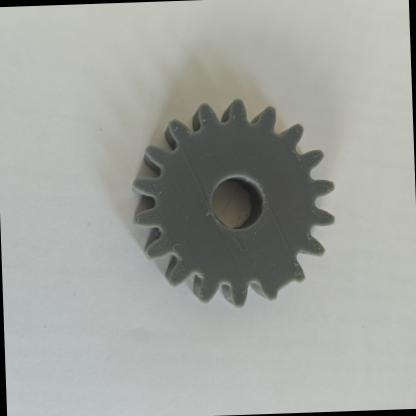defect: (236, 254, 310, 334)
gear: (116, 94, 344, 347)
